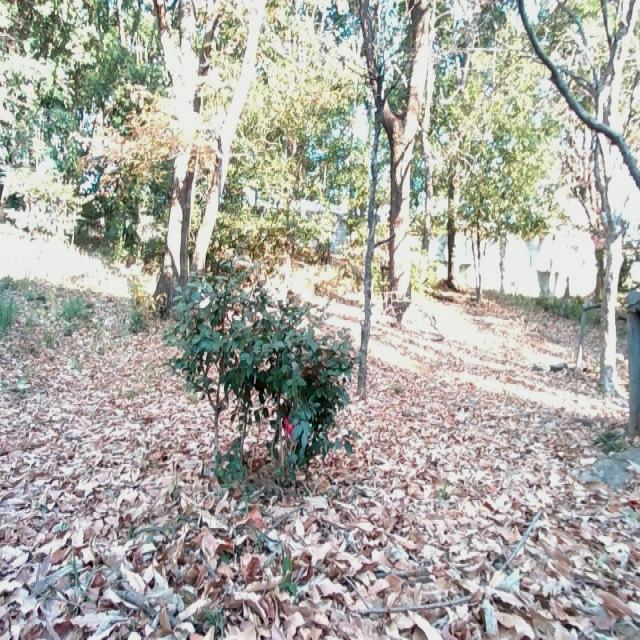bush: (174, 252, 353, 490)
tree: (518, 0, 640, 443), (149, 0, 268, 311), (566, 0, 640, 395), (362, 2, 439, 317), (351, 33, 401, 395), (442, 104, 469, 287)
